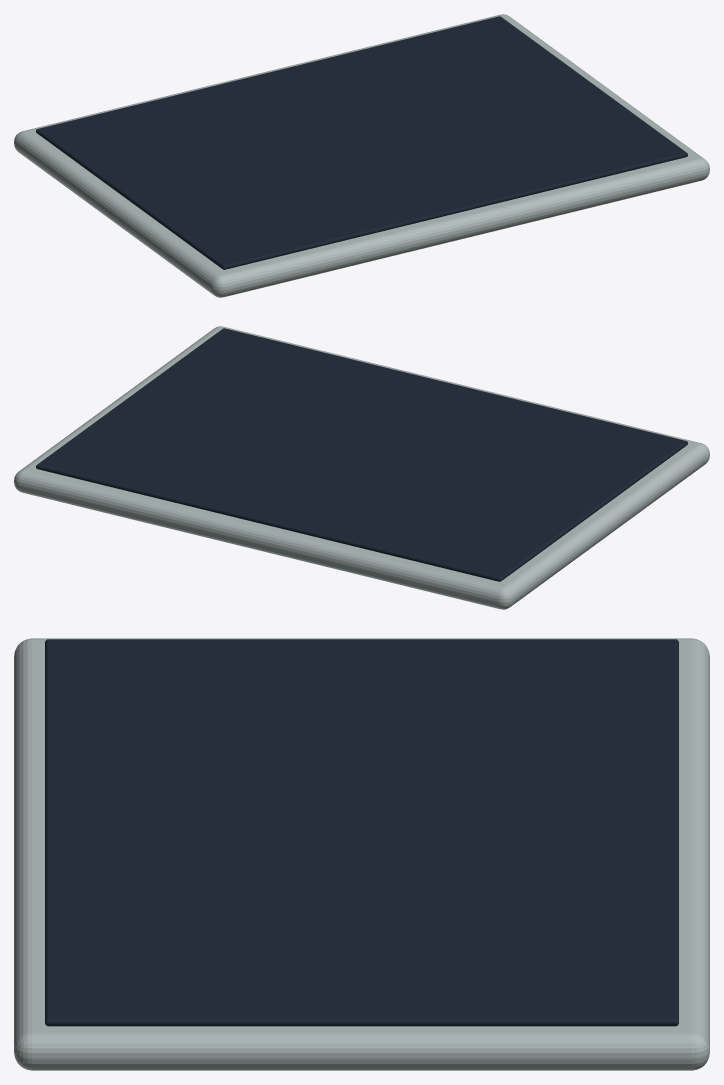
Rendered from sideboard-tablet.glb.
The picture shows the model from 3 angles, top to bottom: view 1: azimuth 30°, elevation 25°; view 2: azimuth 150°, elevation 25°; view 3: azimuth 270°, elevation 25°; orthographic projection. The views are drawn at different scales.
Parts seen in each view (by area): view 1: sideboard-tablet; view 2: sideboard-tablet; view 3: sideboard-tablet.
Part boxes in pixels (<box>): sideboard-tablet: <box>14,14,709,297</box>; sideboard-tablet: <box>14,326,709,609</box>; sideboard-tablet: <box>14,638,709,1070</box>.
Size of the model in its own units: 0.25 by 0.0124 by 0.18.
